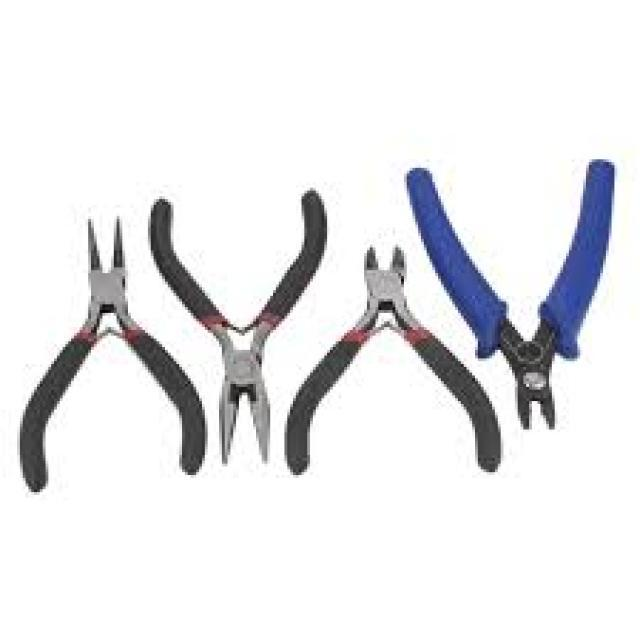pliers: (402, 156, 630, 434), (279, 232, 502, 489), (11, 211, 210, 498), (145, 178, 333, 472)
